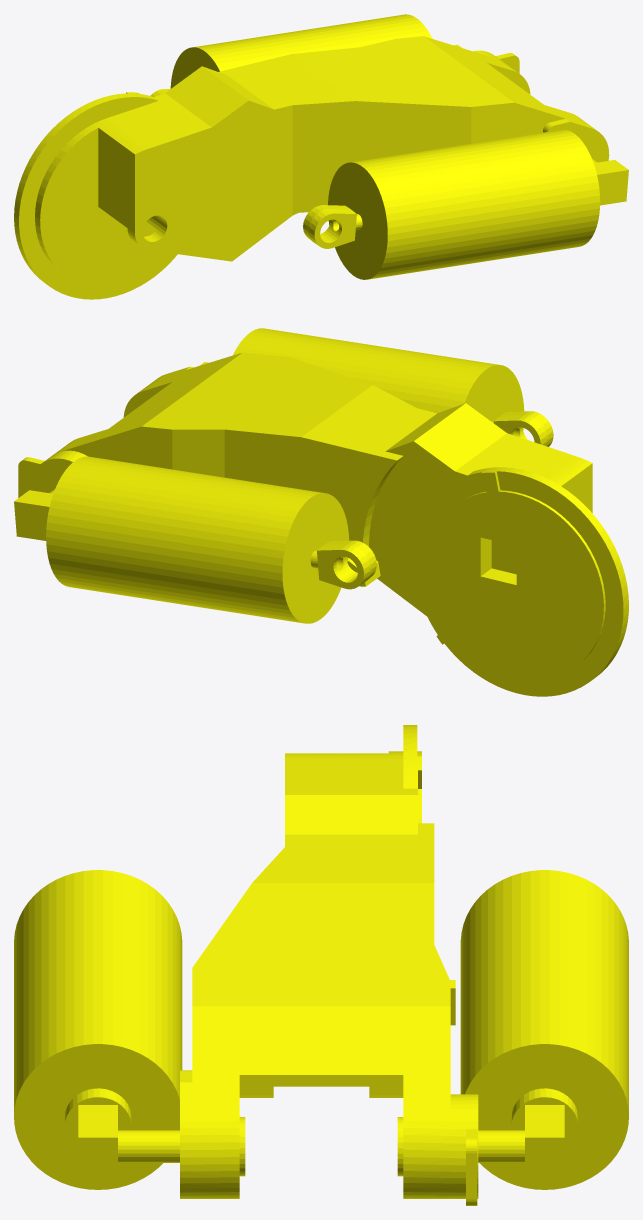
The picture shows the model from 3 angles, top to bottom: view 1: azimuth 30°, elevation 25°; view 2: azimuth 150°, elevation 25°; view 3: azimuth 270°, elevation 25°; orthographic projection. The views are drawn at different scales.
Visible parts, largest first — view 1: node; view 2: node; view 3: node.
Boxes of the visible parts, x1,y1,x2,y2 form: node: (14, 14, 628, 299); node: (14, 328, 628, 696); node: (14, 725, 628, 1205).
Bounding box in the file's own units: 1519 × 567 × 1090.
